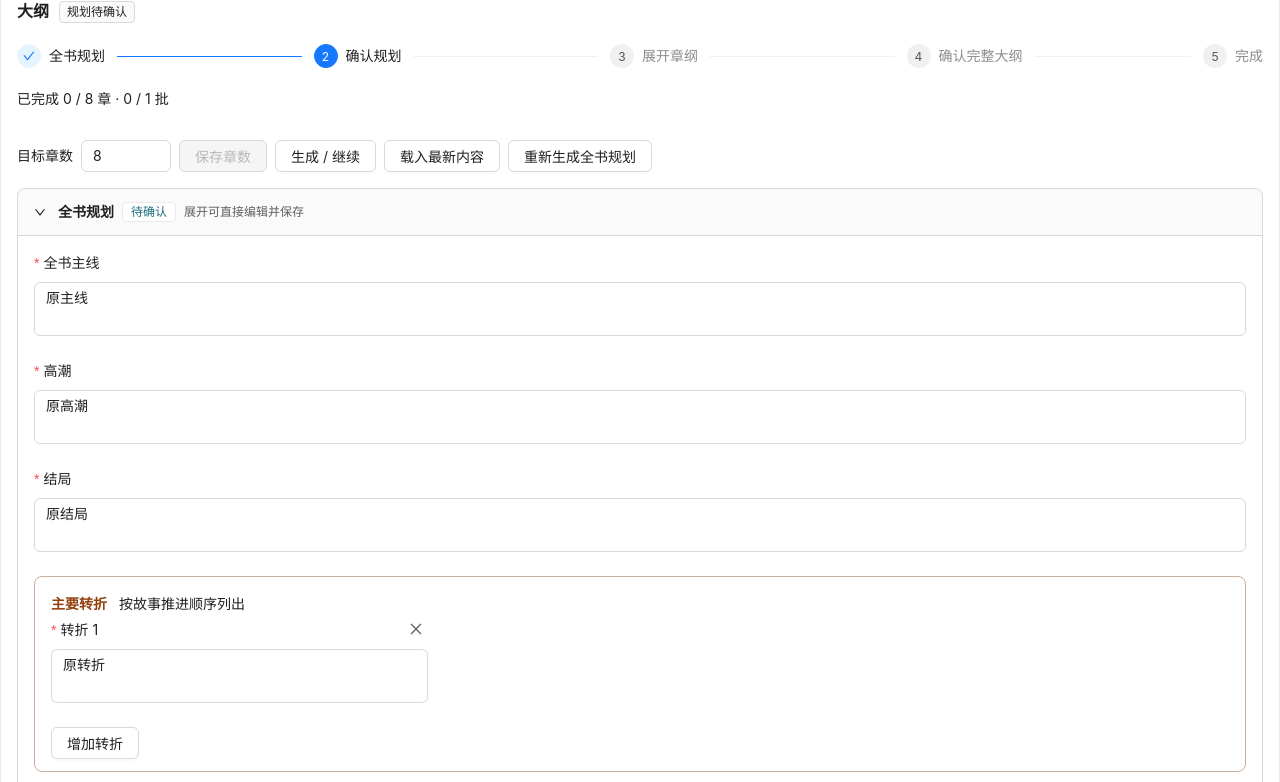
Test: 大纲编辑和确认 › 非法规划在本地被拒绝，不提交保存
This screenshot has width=1280, height=782.
Clear the text box labelled "全书主线" at (640, 309), box [34,282,1246,336]
(page scrolled)
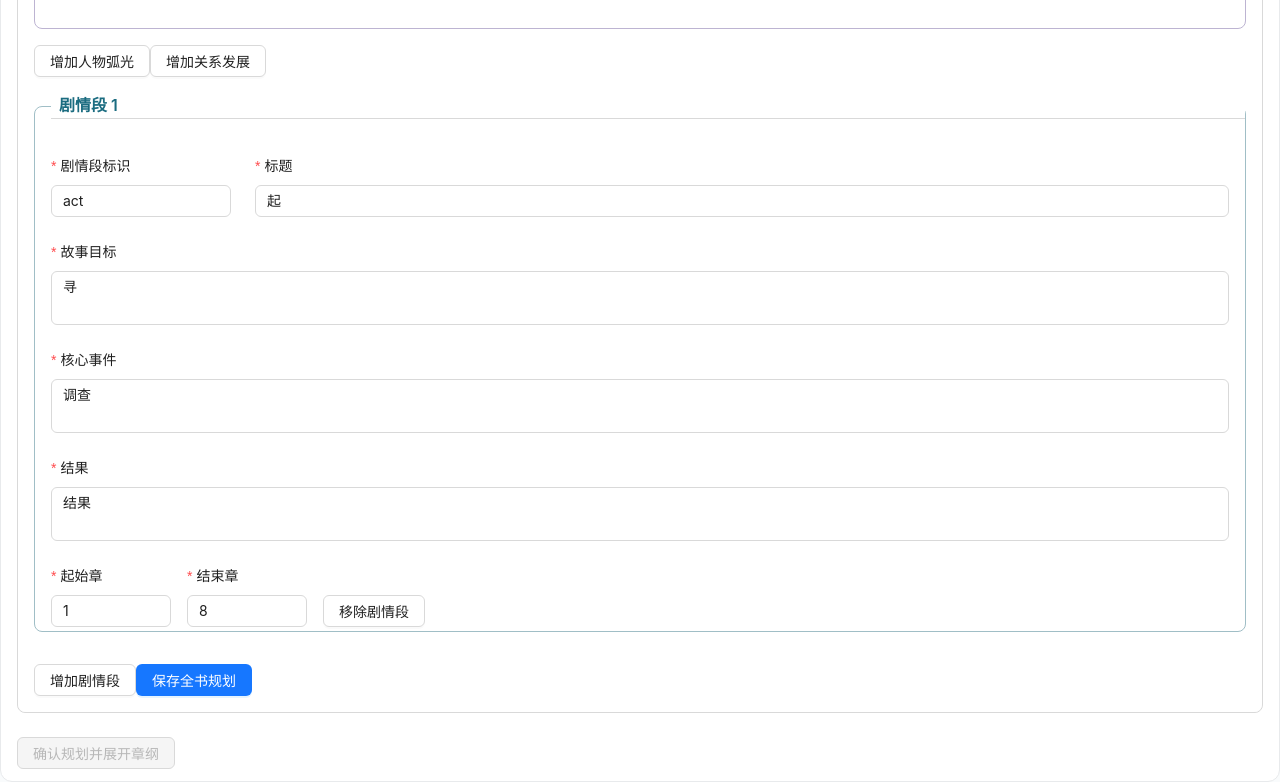
Click the button "保存全书规划" at (194, 680), box [136,664,252,696]
(page scrolled)
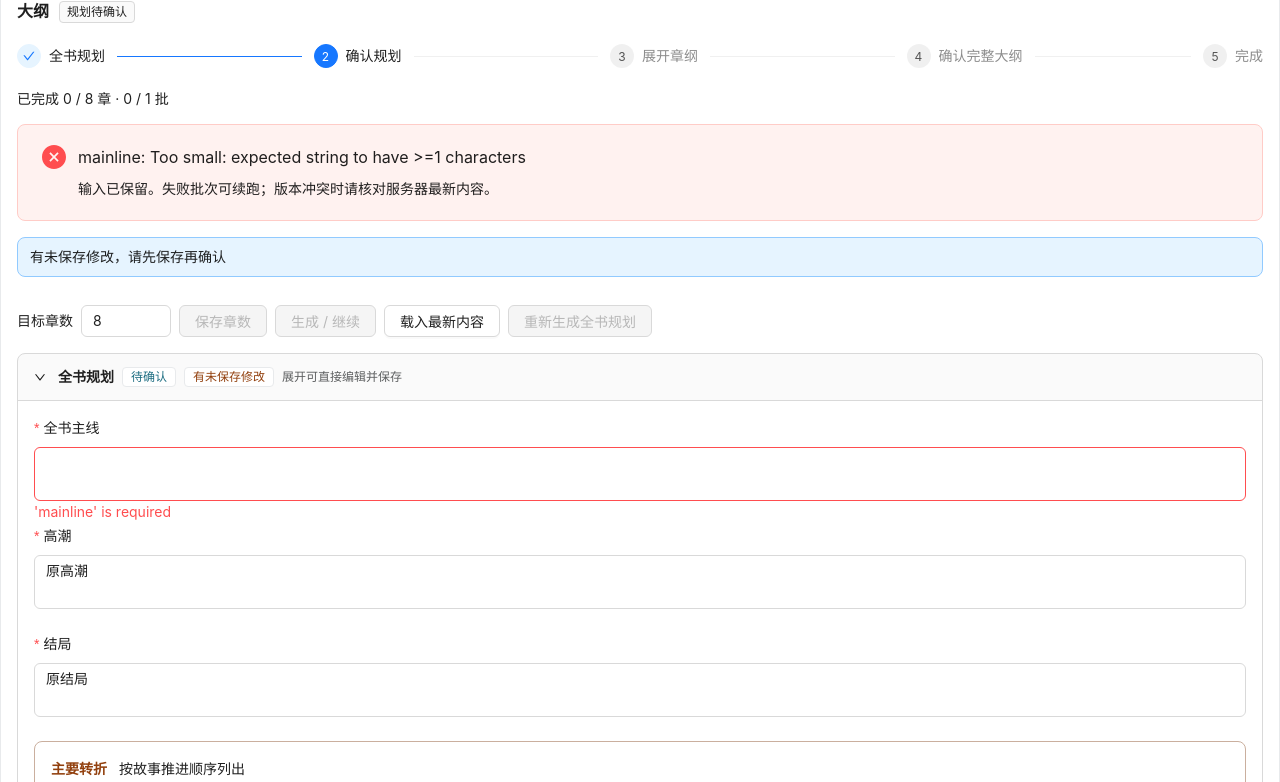
Expected: the text "mainline: Too small: expected string to have >=1 characters" is shown, [78,147,526,167]
